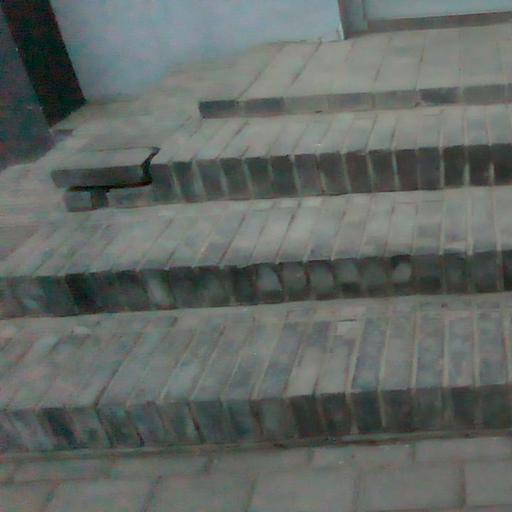stairs: (0, 24, 511, 449), (0, 294, 511, 450)
